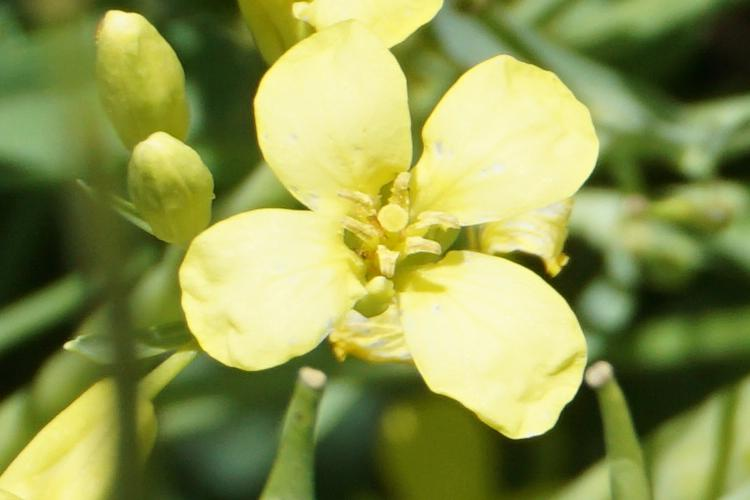bud: (79, 10, 218, 157), (130, 127, 232, 260)
pod: (224, 364, 342, 494), (582, 355, 668, 487)
yellow: (218, 58, 609, 415)
